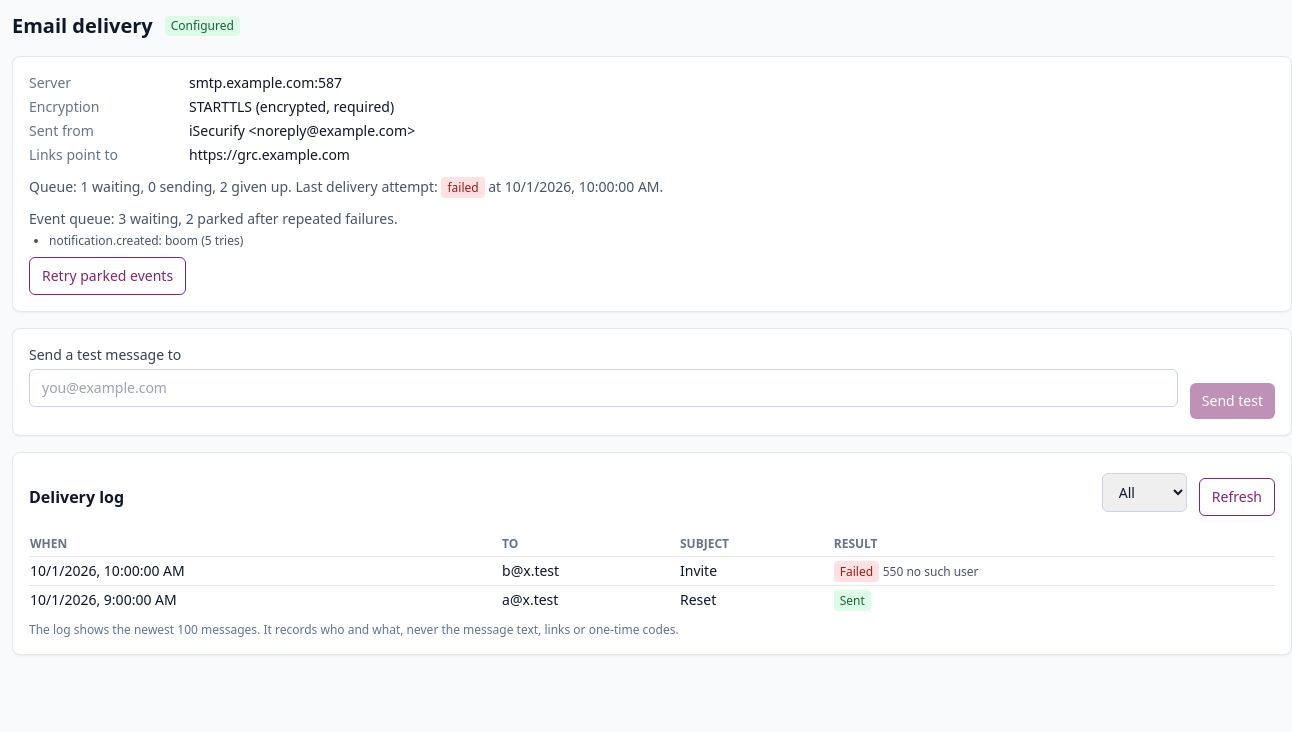
it: event queue: parked events are listed with the reason and can be retried
Expected: the element labelled "Event queue" shows "3 waiting, 2 parked", left=29, top=209, right=398, bottom=295
Expected: the element labelled "Event queue" shows "notification.created: boom (5 tries)", left=29, top=209, right=398, bottom=295
Click the button "Retry parked events": [108, 276] box left=29, top=257, right=186, bottom=295
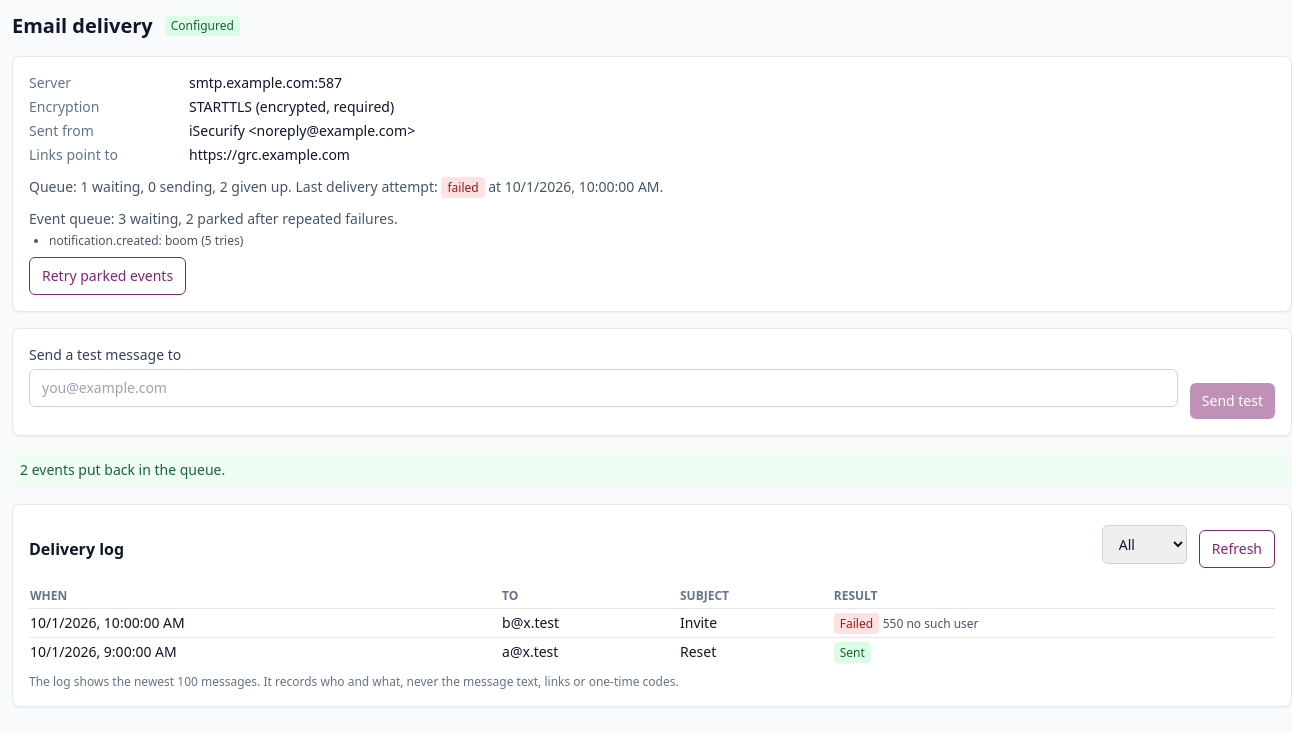
Result: the text "2 events put back in the queue." is shown at left=12, top=452, right=1291, bottom=488
